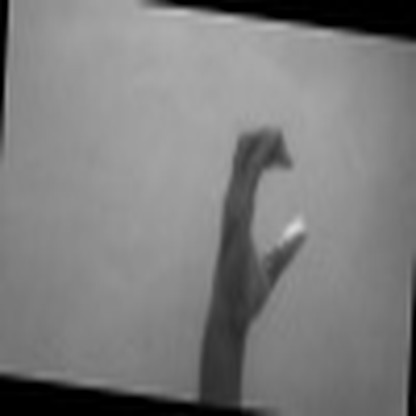c: (198, 116, 319, 311)
